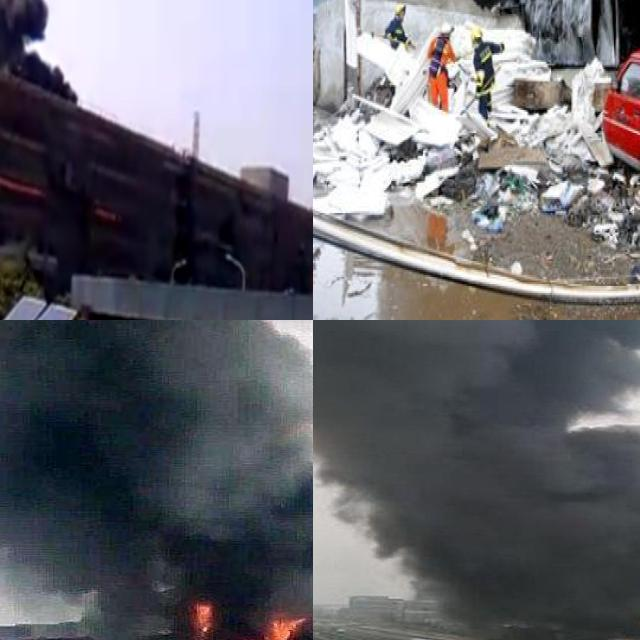fire: (230, 610, 301, 640), (190, 600, 216, 640)
smoke: (313, 320, 640, 640), (0, 320, 313, 625)
